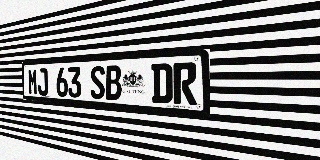3: (68, 67, 81, 98)
6: (56, 67, 68, 97)
B: (105, 65, 122, 101)
D: (151, 63, 173, 104)
J: (37, 68, 48, 96)
M: (28, 68, 38, 95)
R: (173, 62, 197, 105)
S: (90, 66, 105, 99)
